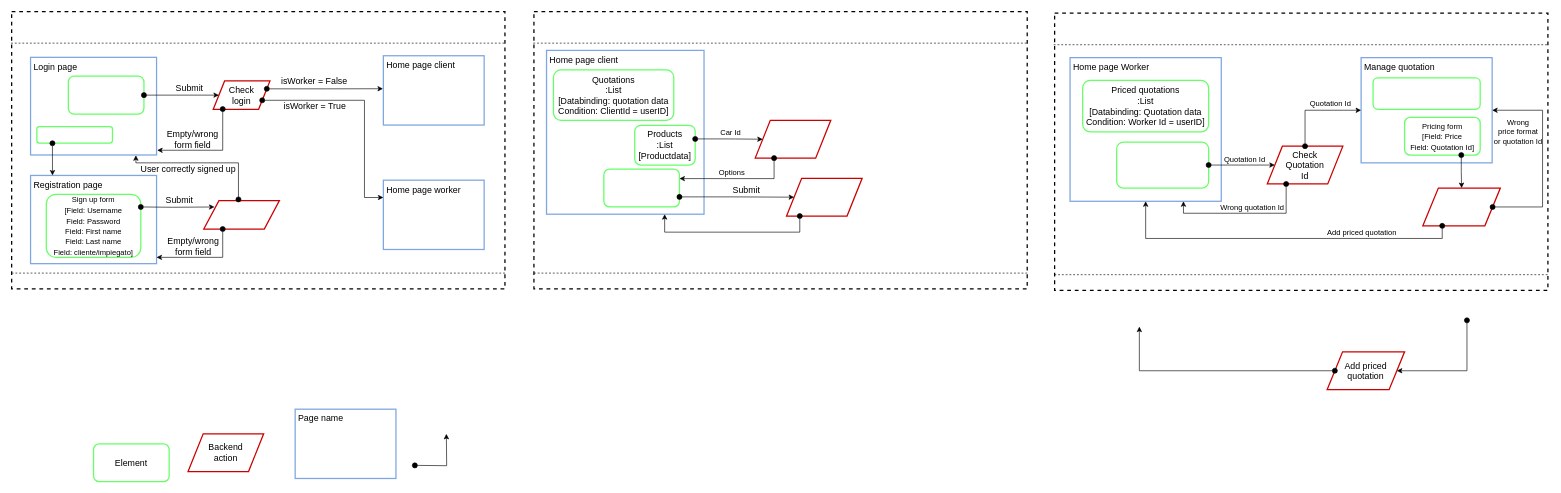
The diagram is 1561 pixels wide and 493 high, and some of its shapes have lost their labels. The shapes that lost their labels are listed below. From the top down, each one's centre as x and y in pixels, then its label:
At point 105,94: "Login form [Field: Username Field: Password]".
At point 1426,93: "Quotation details [Product, Client, Options]".
At point 74,134: "Registration button".
At point 792,138: "Add options".
At point 1162,164: "Pending quotations :List [Product and client information]".
At point 641,187: "Quotation form [Field: Product Field: Options]".
At point 824,196: "Creation pending quotation".
At point 1461,206: "Check price and quotation id".
At point 241,214: "Check registration".
